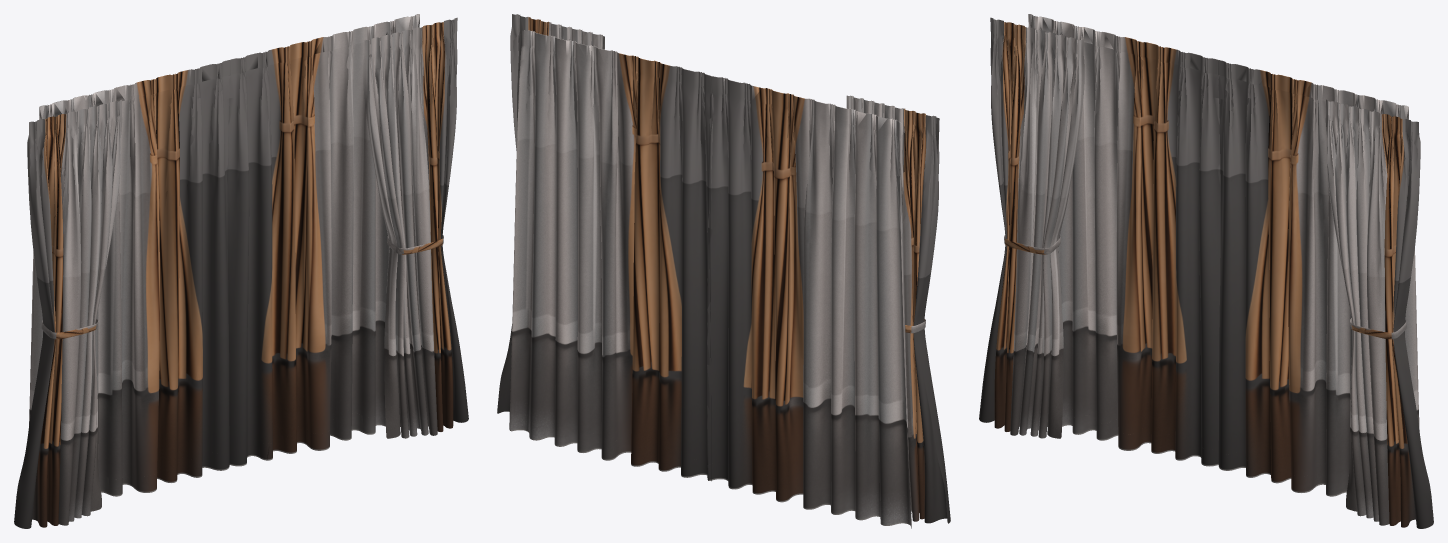
The model's file is uploads_files_4180038_pinch+pleat+curtain.obj.
3 views of the same model, side by side, from view 1: azimuth 30°, elevation 25°; view 2: azimuth 150°, elevation 25°; view 3: azimuth 330°, elevation 25° (orthographic).
Visible parts, largest first — view 1: Plane_003; view 2: Plane_003; view 3: Plane_003.
Boxes of the visible parts, box(x1,y1,x2,y2) form: Plane_003: box(14, 14, 468, 528); Plane_003: box(497, 14, 950, 528); Plane_003: box(979, 14, 1433, 528).
Size of the model in its own units: 2.44 by 2.09 by 0.2637.
2 materials, 2 textured.
